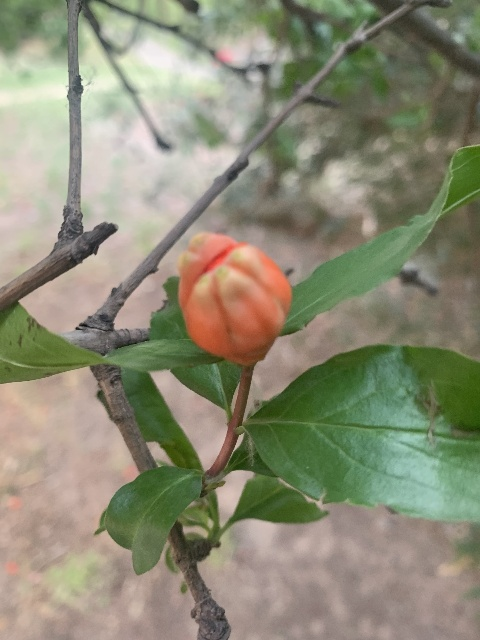flower: (176, 233, 291, 365)
